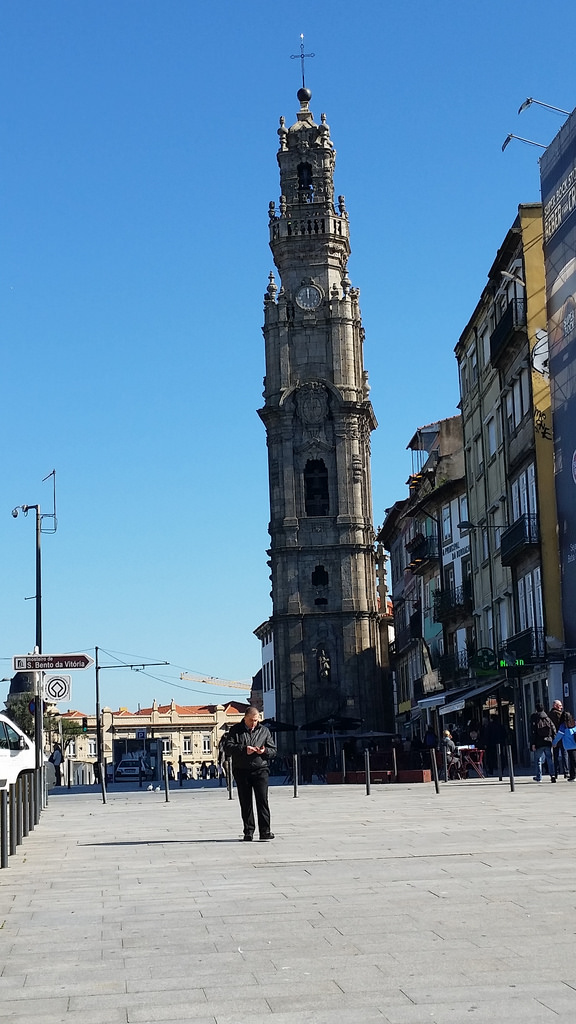clerigos: (257, 31, 394, 778)
